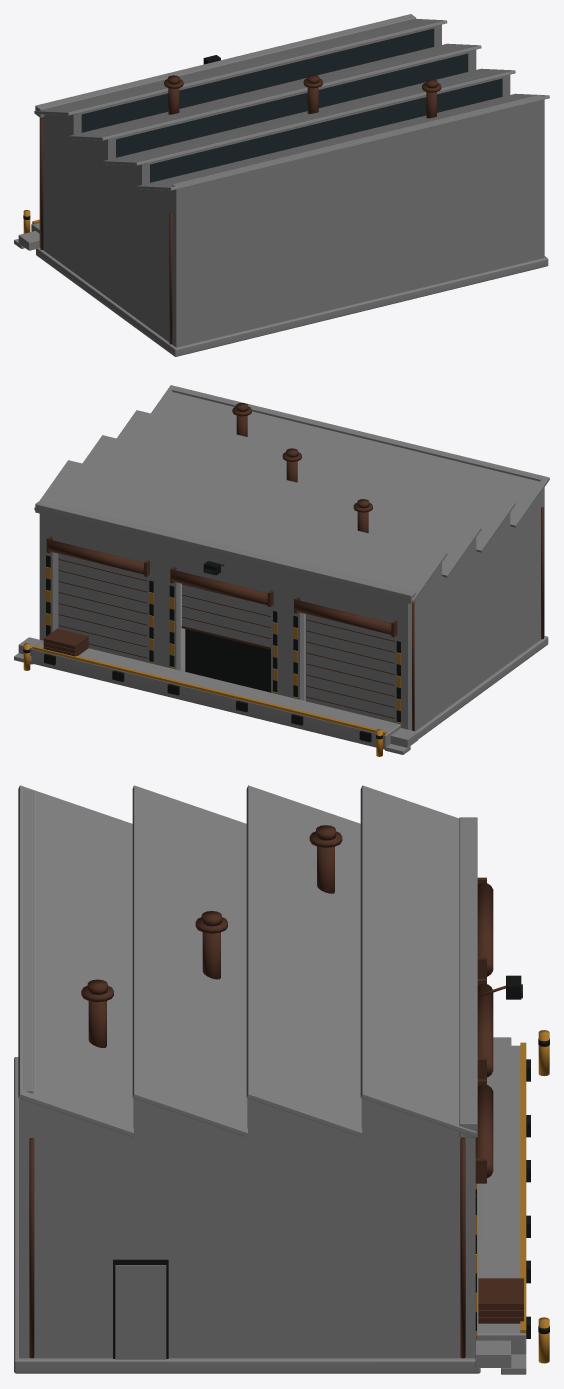
The model's file is noir-warehouse.glb.
3 views of the same model, one above another, from view 1: azimuth 30°, elevation 25°; view 2: azimuth 150°, elevation 25°; view 3: azimuth 270°, elevation 25° (orthographic). The views are drawn at different scales.
Parts seen in each view (by area): view 1: front wall, floodlight lens, concrete plinth, door bottom rail; view 2: front wall, concrete plinth, door bottom rail, bay interior, bay warning stripe; view 3: front wall, concrete plinth, door bottom rail, bay warning stripe, bay interior.
Part boxes in pixels (x1,y1,x2,y2): front wall: (34,19,549,347); floodlight lens: (81,28,502,182); concrete plinth: (14,14,548,356); door bottom rail: (40,74,441,344); front wall: (34,385,549,731); concrete plinth: (14,500,548,754); door bottom rail: (43,403,543,730); bay interior: (23,555,400,742); bay warning stripe: (23,567,400,756); front wall: (18,785,476,1359); concrete plinth: (14,817,526,1374); door bottom rail: (29,825,523,1358); bay warning stripe: (475,1030,549,1363); bay interior: (113,975,549,1358).
Bounding box in the file's own units: 14.8 × 6.86 × 10.56.
